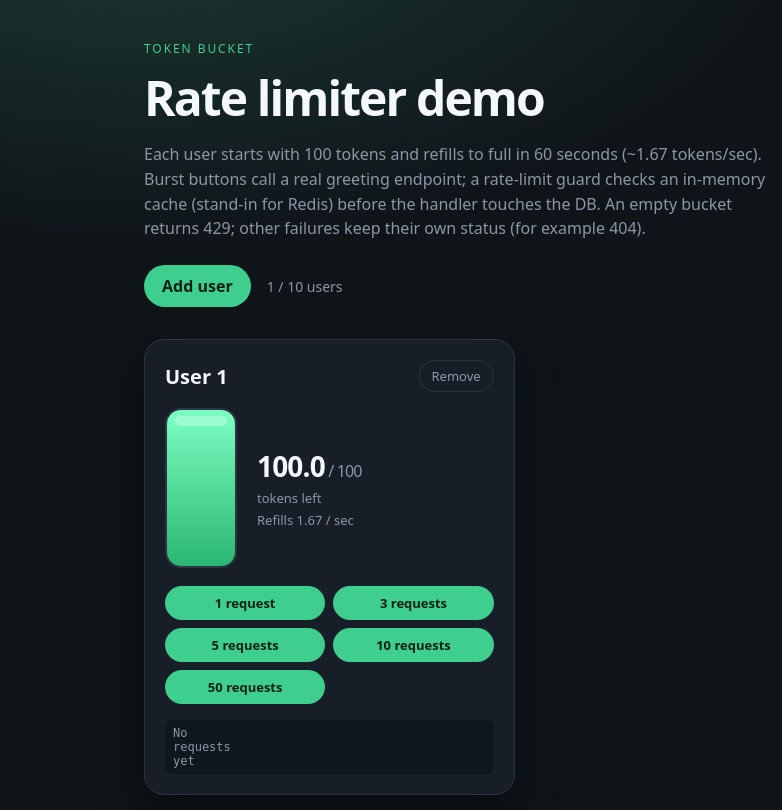
Test: App › records no hits when any request in a burst rejects, so a partial batch cannot look complete
The width and height of the screenshot is (782, 810).
Expected: the heading "User 1" is shown, left=165, top=363, right=228, bottom=390
Click the button "3 requests".
click(413, 603)  # box left=333, top=586, right=494, bottom=620
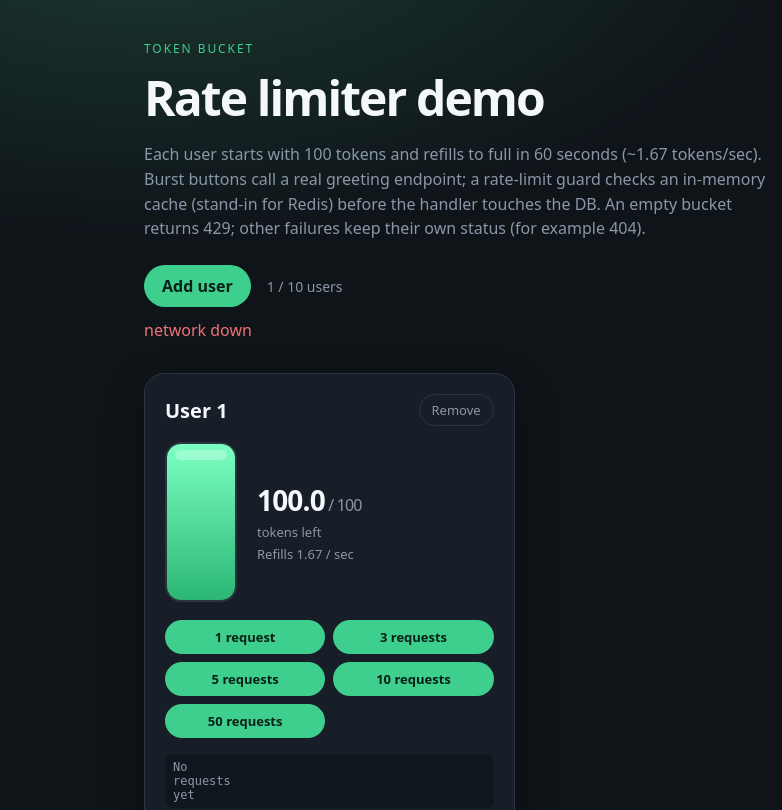
Expected: the list item "No requests yet" is shown, left=165, top=754, right=494, bottom=808
Expected: the text "network down" is shown, left=144, top=319, right=252, bottom=341
